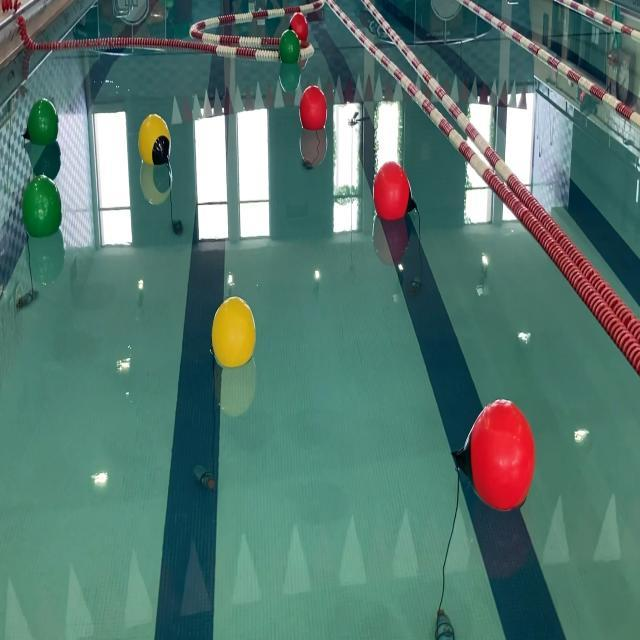buoy: (454, 399, 538, 515), (212, 296, 256, 369), (374, 158, 419, 222), (22, 174, 62, 241), (139, 112, 169, 168), (26, 100, 60, 148), (300, 84, 327, 134), (280, 28, 304, 68), (288, 12, 310, 44)
